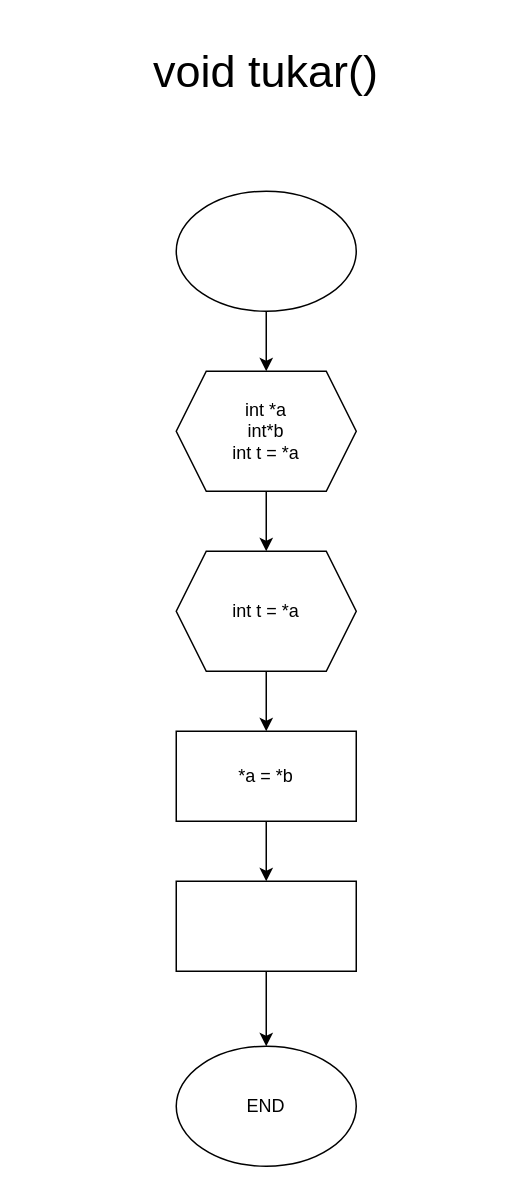
Some shapes in this 531 by 1193 pixel diagram are drawn without their labels. The centre of each missing label's shape, as x and y in pixels:
"*b = t" belongs at point (265, 925).
"START" belongs at point (265, 250).
